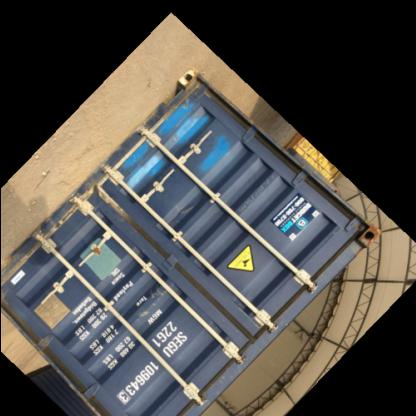Damage: (88, 172, 132, 234), (151, 78, 206, 126), (38, 204, 84, 240), (12, 244, 42, 275)
